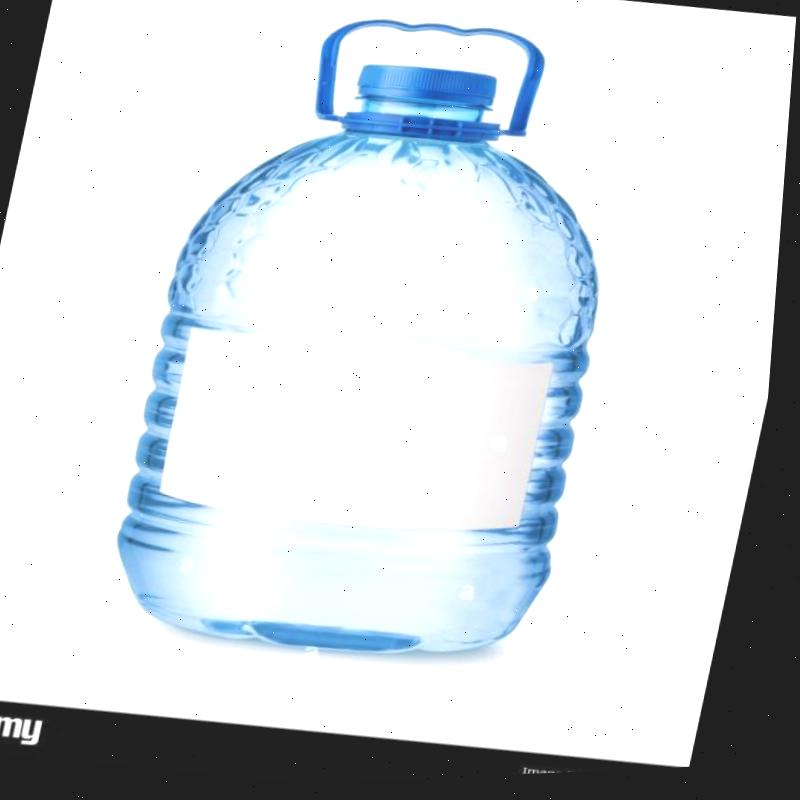botella: (105, 31, 661, 689)
